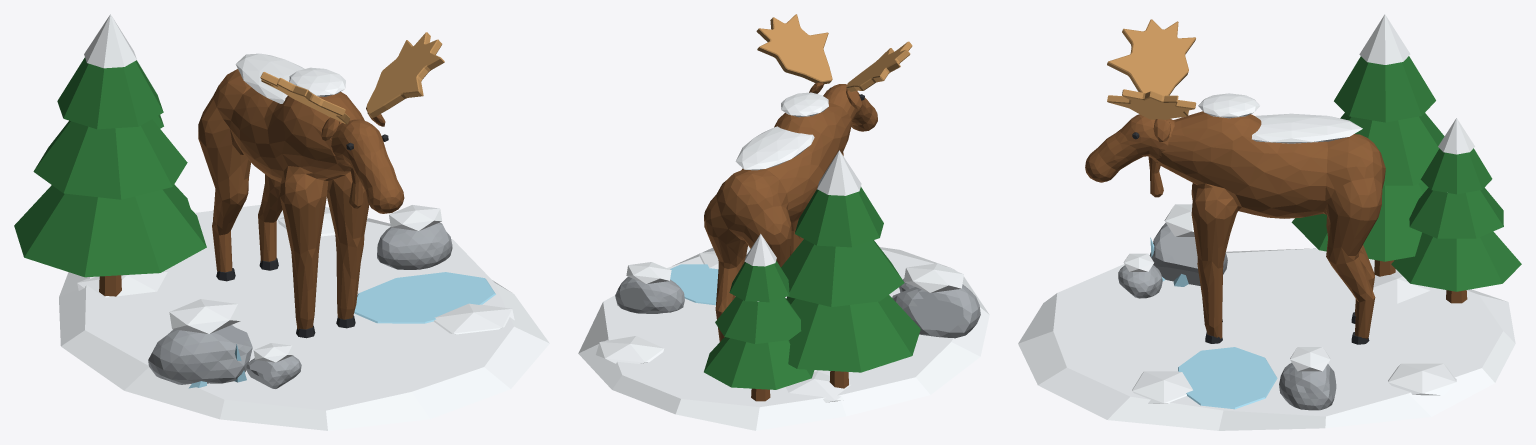
The model's file is low-poly-winter-moose.glb.
The picture shows the model from 3 angles, left to right: view 1: azimuth 30°, elevation 25°; view 2: azimuth 150°, elevation 25°; view 3: azimuth 270°, elevation 25°; orthographic projection. The views are drawn at different scales.
Visible parts, largest first — view 1: Snow_Base, Pine_0, Moose_Body, Head, Ice_Pond, Rock_0, Rock_2, Snow_RockCap_0, Snow_Drift_1, Snow_Back, Rock_1, Snow_Hump (+3 smaller); view 2: Snow_Base, Pine_0, Moose_Body, Pine_1, Head, Rock_0, Snow_Back, Rock_2, Ice_Pond, Snow_Drift_2, Snow_RockCap_0, Snow_Drift_0 (+2 smaller); view 3: Snow_Base, Moose_Body, Pine_0, Pine_1, Head, Ice_Pond, Snow_Back, Rock_2, Rock_0, Snow_Drift_2, Snow_Drift_1, Snow_Hump (+5 smaller).
Part boxes in pixels (x1,y1,x2,y2): Snow_Base: [59, 204, 549, 430]; Pine_0: [14, 14, 206, 296]; Moose_Body: [198, 69, 369, 329]; Head: [260, 32, 444, 213]; Ice_Pond: [354, 272, 495, 323]; Rock_0: [148, 325, 252, 384]; Rock_2: [377, 222, 452, 269]; Snow_RockCap_0: [169, 299, 240, 333]; Snow_Drift_1: [434, 303, 514, 334]; Snow_Back: [235, 53, 304, 103]; Rock_1: [246, 355, 301, 388]; Snow_Hump: [289, 67, 345, 96]; Snow_Base: [578, 245, 989, 430]; Pine_0: [781, 150, 920, 388]; Moose_Body: [704, 101, 852, 341]; Pine_1: [704, 234, 814, 401]; Head: [756, 14, 912, 155]; Rock_0: [892, 284, 980, 338]; Snow_Back: [735, 126, 814, 170]; Rock_2: [615, 277, 684, 313]; Ice_Pond: [670, 264, 718, 305]; Snow_Drift_2: [596, 336, 664, 363]; Snow_RockCap_0: [904, 263, 963, 292]; Snow_Drift_0: [785, 371, 850, 402]; Snow_Base: [1018, 248, 1515, 430]; Moose_Body: [1155, 111, 1385, 339]; Pine_0: [1291, 14, 1444, 276]; Pine_1: [1391, 118, 1521, 303]; Head: [1085, 19, 1196, 197]; Ice_Pond: [1178, 347, 1277, 409]; Snow_Back: [1252, 113, 1362, 143]; Rock_2: [1279, 362, 1336, 410]; Rock_0: [1149, 223, 1227, 285]; Snow_Drift_2: [1388, 363, 1456, 395]; Snow_Drift_1: [1132, 371, 1192, 403]; Snow_Hump: [1198, 93, 1259, 118].
Size of the model in its own units: 13.93 by 10.21 by 16.18.
